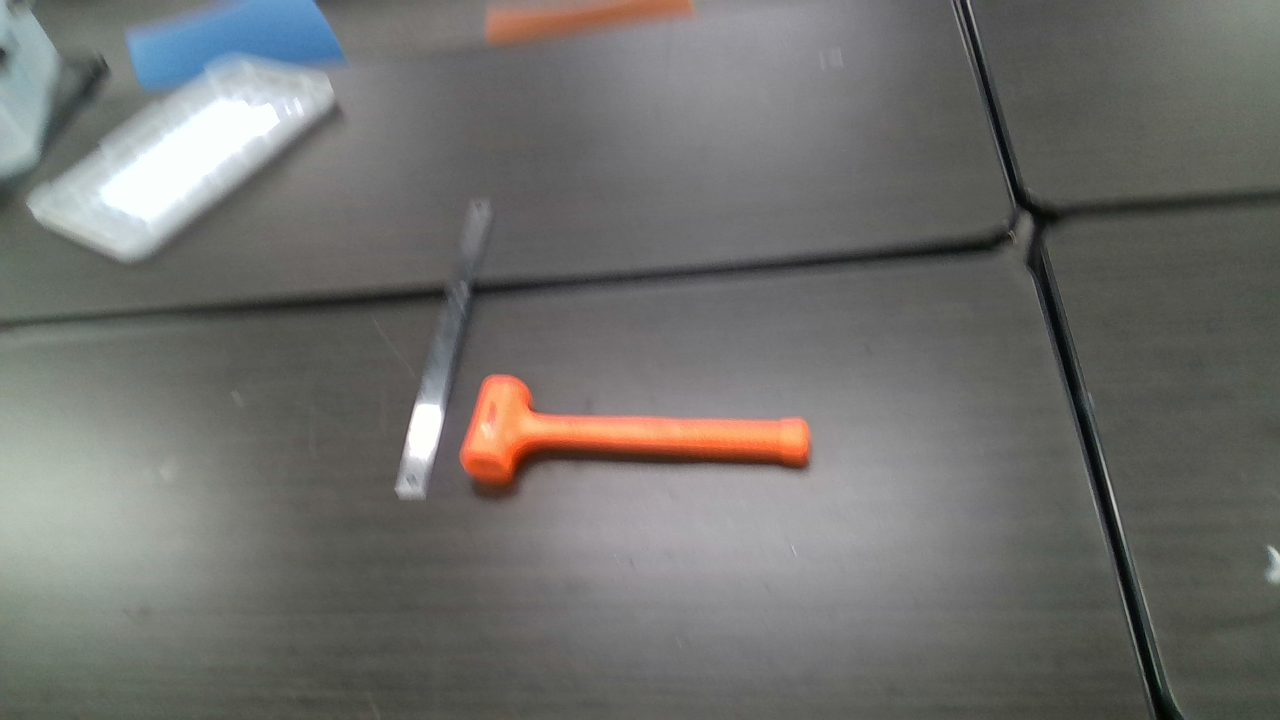Orange Hammer: (463, 377, 813, 489)
